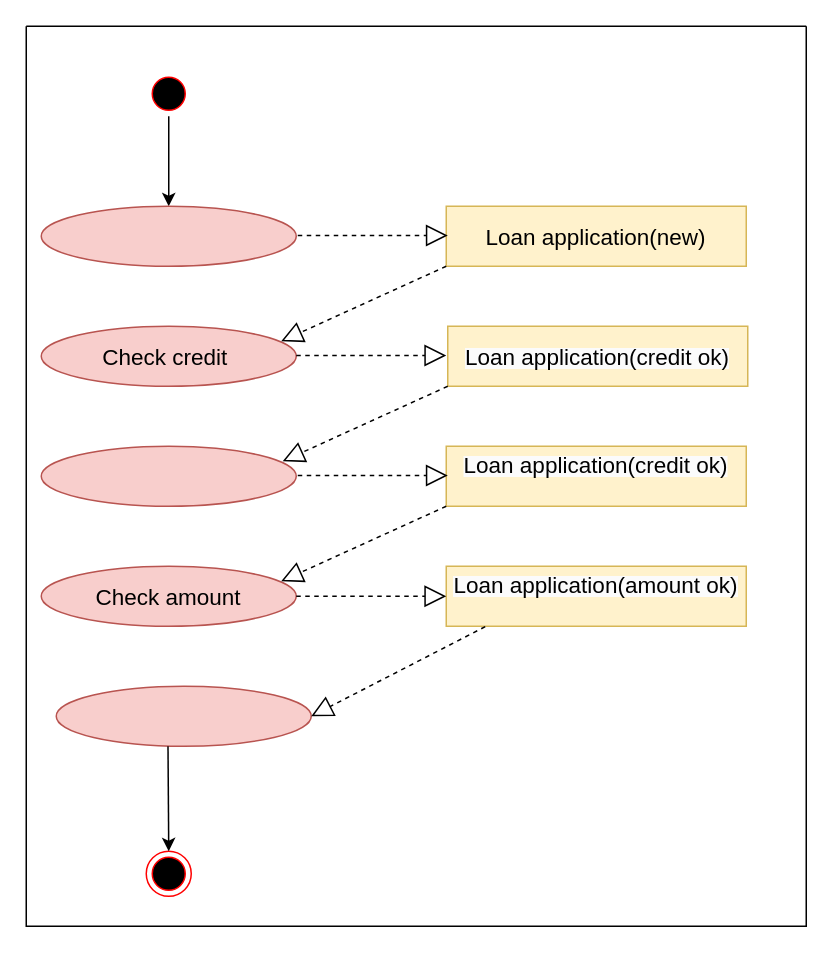
Image size: 833x953. Some labels were removed from this diagram. The centre of each missing label's shape, as x and y in pixels:
Approve loan: the point at 183,715
Check collateral: the point at 168,475
Submit loan application: the point at 168,235
